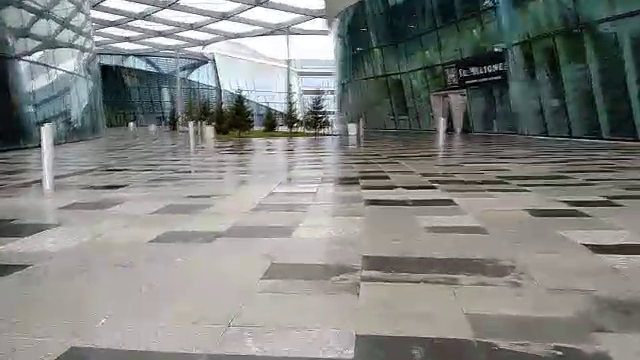ilmalione: (438, 54, 520, 93)
